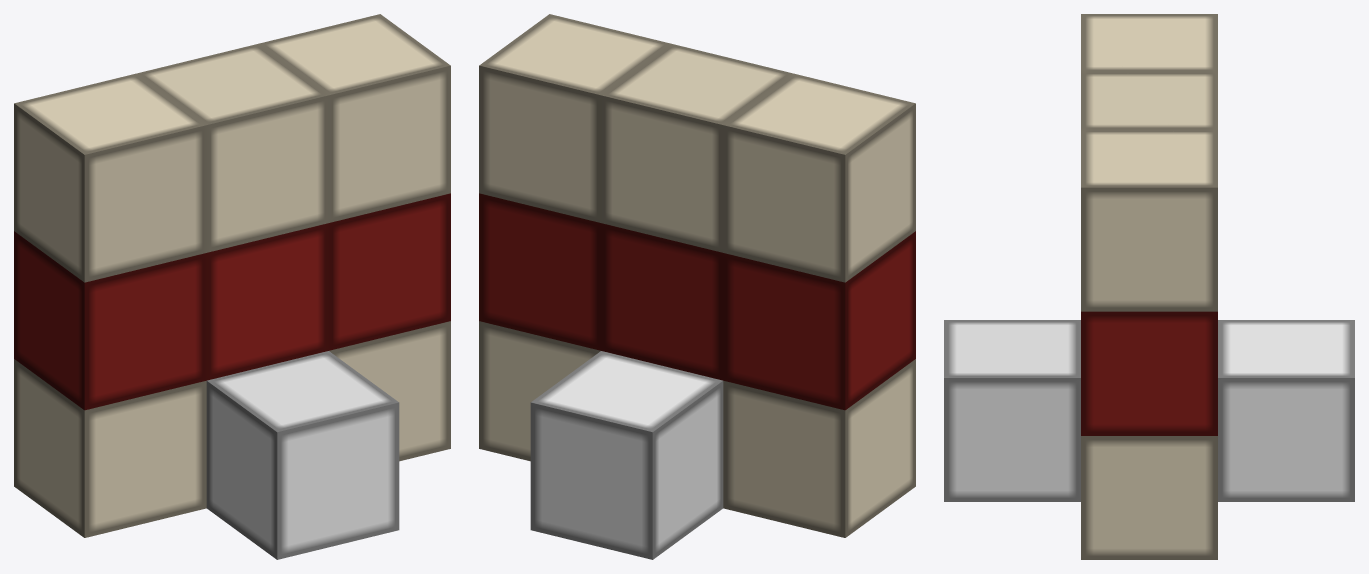
The model's file is menu_card.glb.
3 renders of one model, left to right at view 1: azimuth 30°, elevation 25°; view 2: azimuth 150°, elevation 25°; view 3: azimuth 270°, elevation 25°, orthographic. The views are drawn at different scales.
Visible parts, largest first — view 1: menu_card; view 2: menu_card; view 3: menu_card.
Boxes of the visible parts, x1,y1,x2,y2 form: menu_card: [14, 14, 450, 559]; menu_card: [479, 14, 915, 559]; menu_card: [944, 14, 1354, 559].
Size of the model in its own units: 0.15 by 0.15 by 0.15.
Materials: 3 (3 with a texture image).
